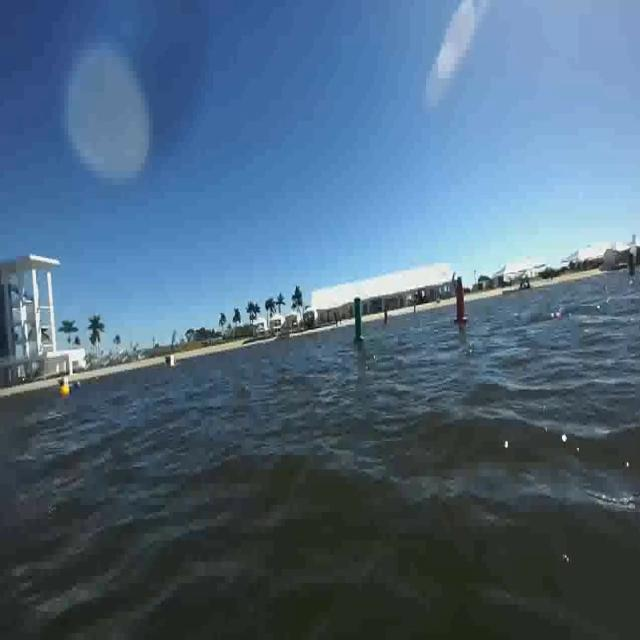green-column-buoy: (352, 296, 366, 344)
red-column-buoy: (452, 276, 466, 324)
yellow-duck: (61, 382, 71, 399)
